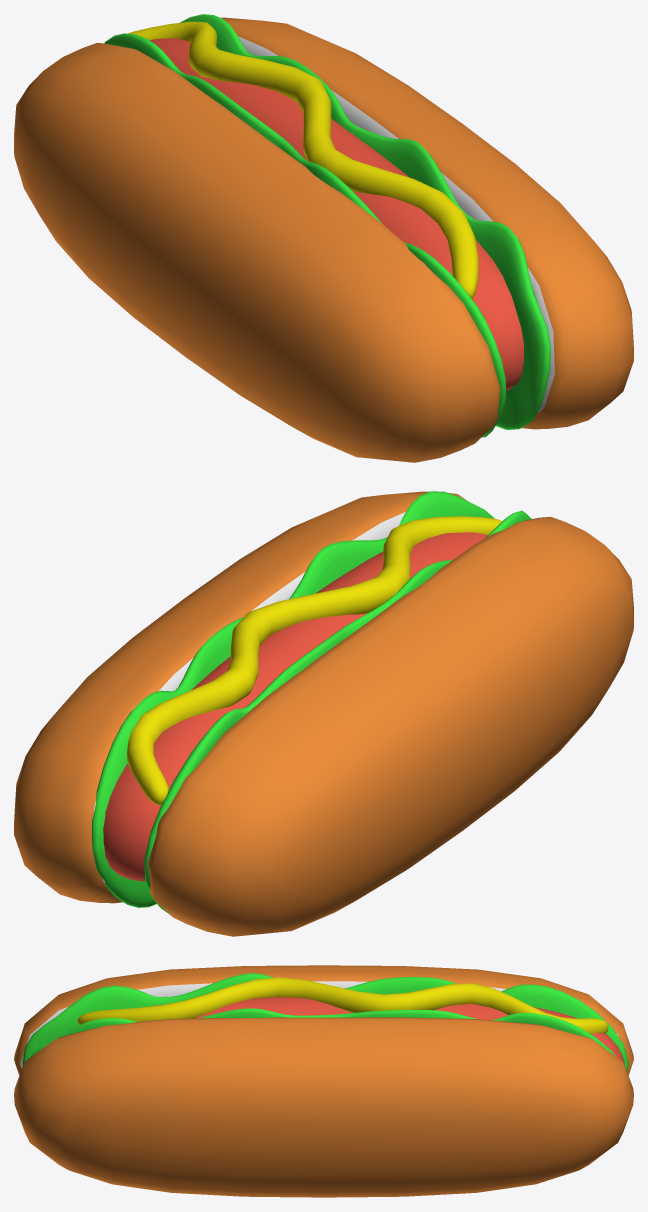
File: sandwich.fbx
The picture shows the model from 3 angles, top to bottom: view 1: azimuth 30°, elevation 25°; view 2: azimuth 150°, elevation 25°; view 3: azimuth 270°, elevation 25°; orthographic projection. The views are drawn at different scales.
Parts seen in each view (by area): view 1: Circle.001; view 2: Circle.001; view 3: Circle.001.
Part boxes in pixels (x1,y1,x2,y2): Circle.001: [14, 14, 633, 462]; Circle.001: [14, 491, 633, 936]; Circle.001: [14, 965, 633, 1197].
Bounding box in the file's own units: 40.34 × 27.52 × 88.85.
